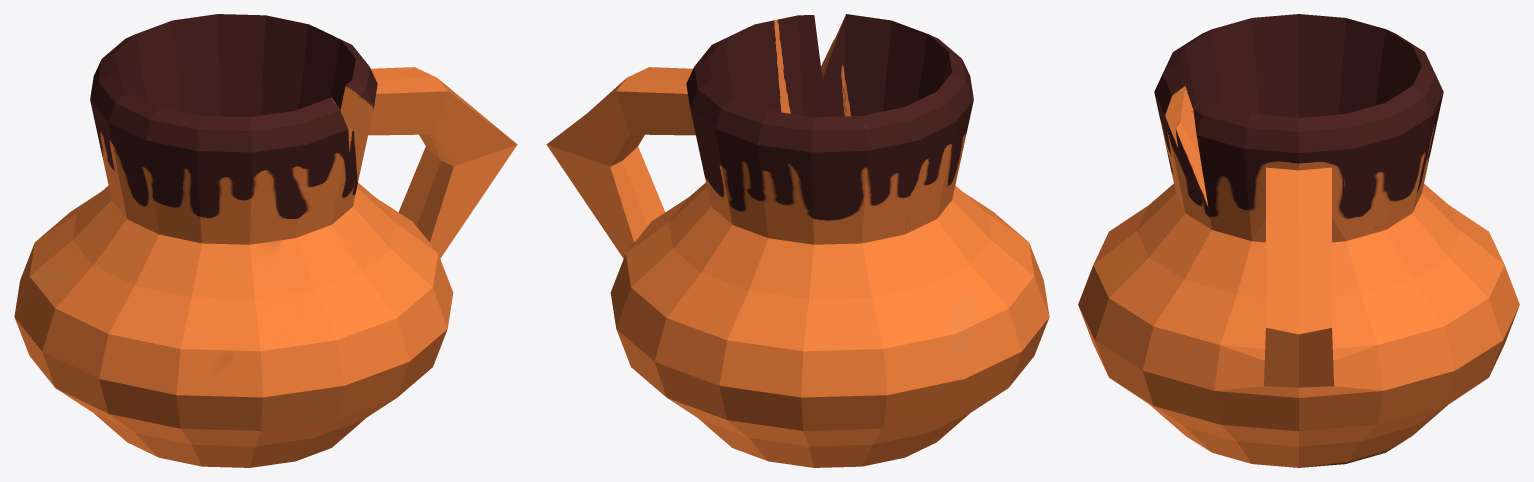
Rendered from Jar.fbx.
3 renders of one model, left to right at view 1: azimuth 30°, elevation 25°; view 2: azimuth 150°, elevation 25°; view 3: azimuth 270°, elevation 25°, orthographic.
Visible parts, largest first — view 1: Cylinder; view 2: Cylinder; view 3: Cylinder.
Part boxes in pixels (box(x1,y1,x2,y2)): Cylinder: box(14, 14, 517, 467); Cylinder: box(546, 14, 1049, 467); Cylinder: box(1078, 14, 1519, 467).
Bounding box in the file's own units: 432 × 314 × 360.
